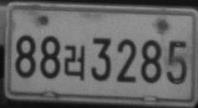2: (116, 38, 137, 83)
3: (90, 37, 112, 81)
5: (166, 40, 188, 85)
8: (14, 34, 37, 79), (39, 34, 61, 79), (140, 39, 162, 84)
러: (63, 44, 85, 81)
